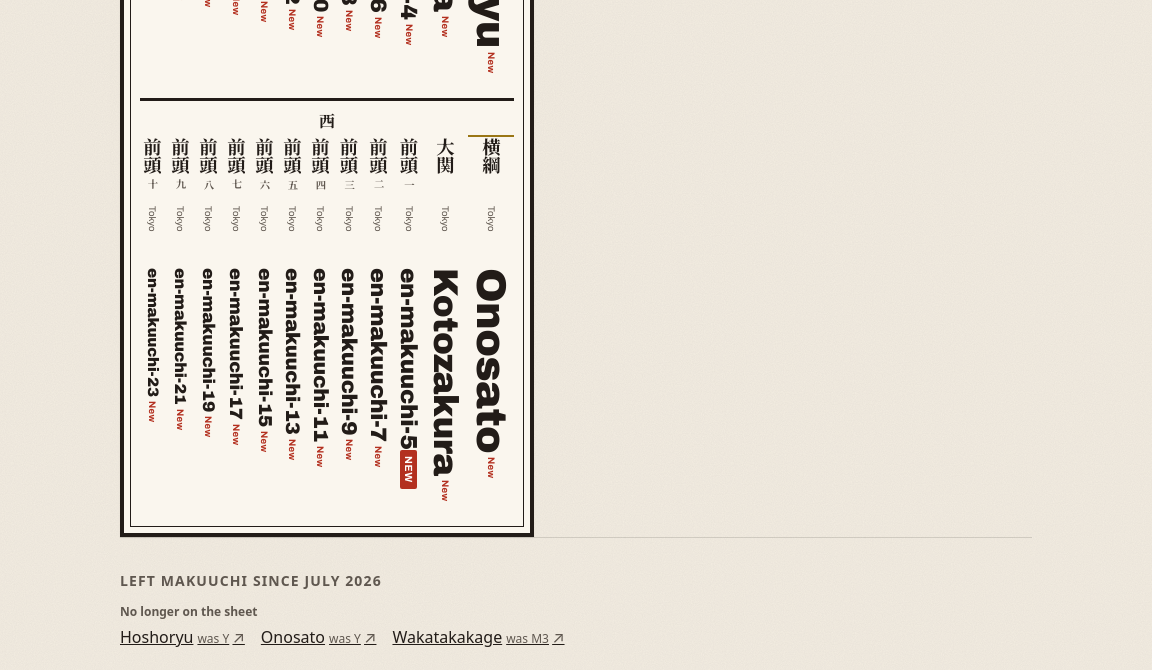
App › mounts a dialog on its first open and keeps it for the close transition
This screenshot has width=1152, height=670.
(page scrolled)
Click the button with aria-label "Onosato, West".
click(491, 311)  # box [468, 135, 514, 487]
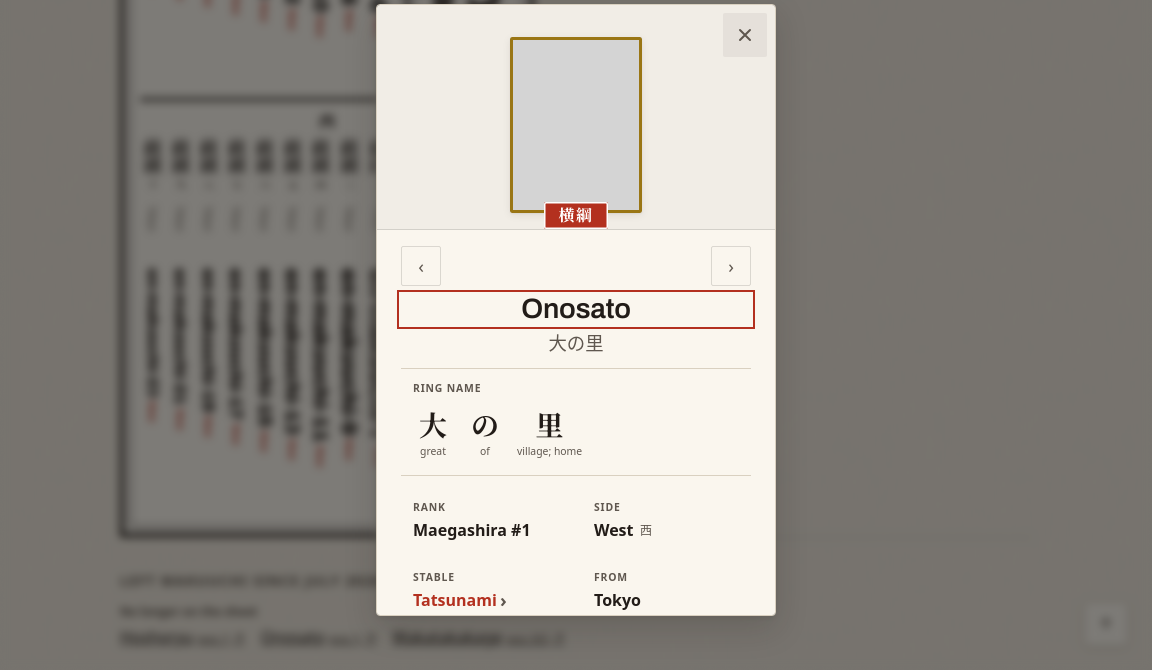
Click the button named "Close wrestler details".
click(745, 35)  # box [723, 13, 767, 57]
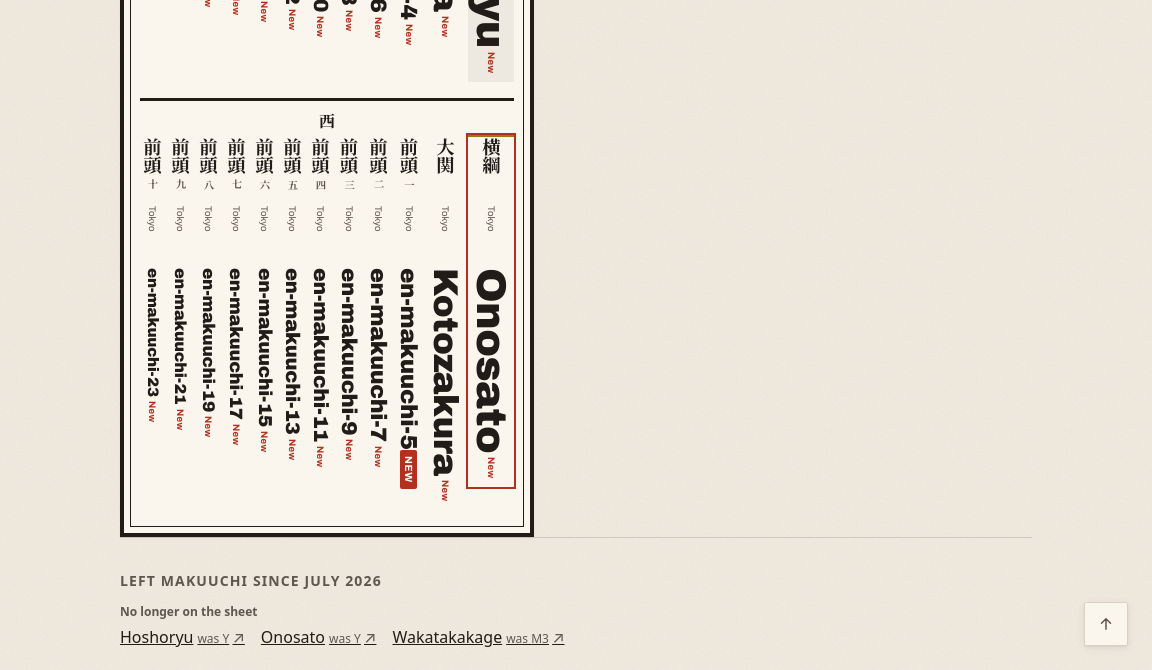
Now the dialog is gone
